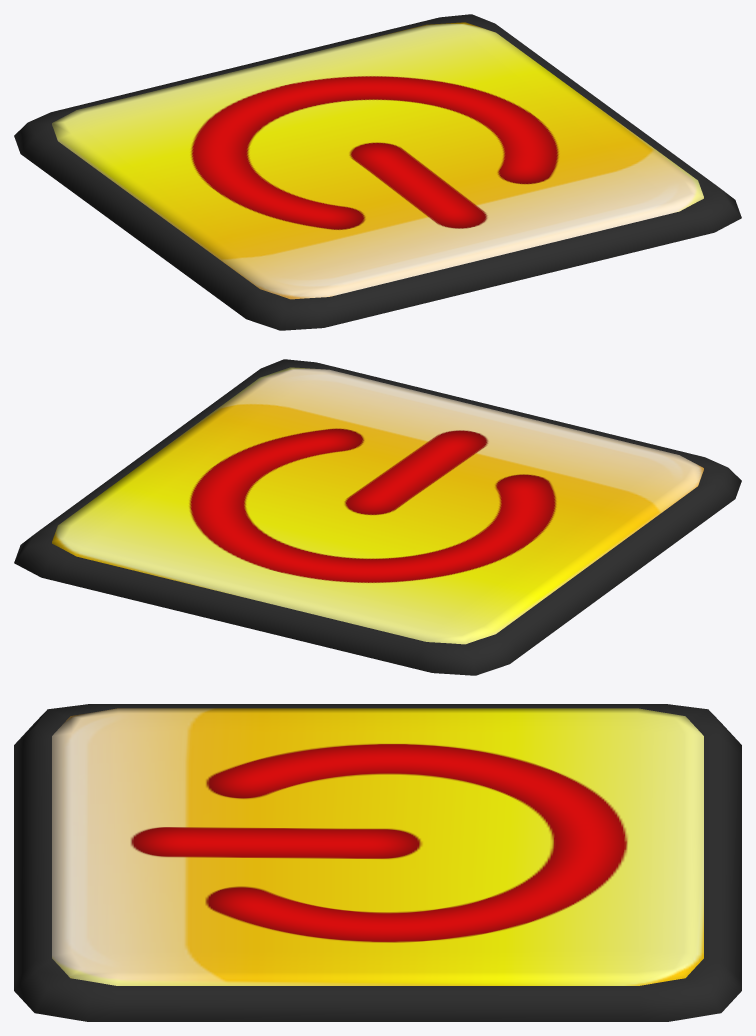
File: Button.fbx
3 views of the same model, one above another, from view 1: azimuth 30°, elevation 25°; view 2: azimuth 150°, elevation 25°; view 3: azimuth 270°, elevation 25° (orthographic). The views are drawn at different scales.
Visible parts, largest first — view 1: ButtonTop, ButtonPlane; view 2: ButtonTop, ButtonPlane; view 3: ButtonTop, ButtonPlane.
Boxes of the visible parts, bbox=[...] form: ButtonTop: bbox=[52, 22, 703, 299]; ButtonPlane: bbox=[14, 14, 741, 330]; ButtonTop: bbox=[52, 367, 703, 644]; ButtonPlane: bbox=[14, 359, 741, 675]; ButtonTop: bbox=[52, 708, 703, 985]; ButtonPlane: bbox=[14, 704, 741, 1021].
Size of the model in its own units: 1.11 by 0.0493 by 1.11.
2 materials, 1 textured.
